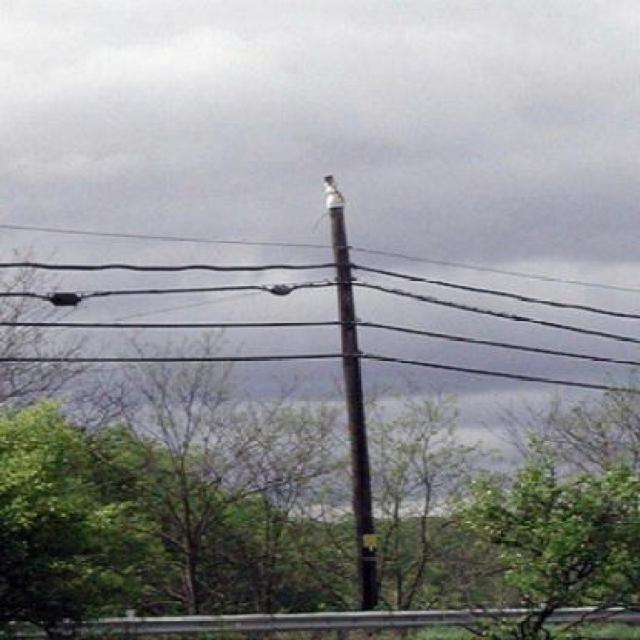pole: (292, 153, 403, 602)
